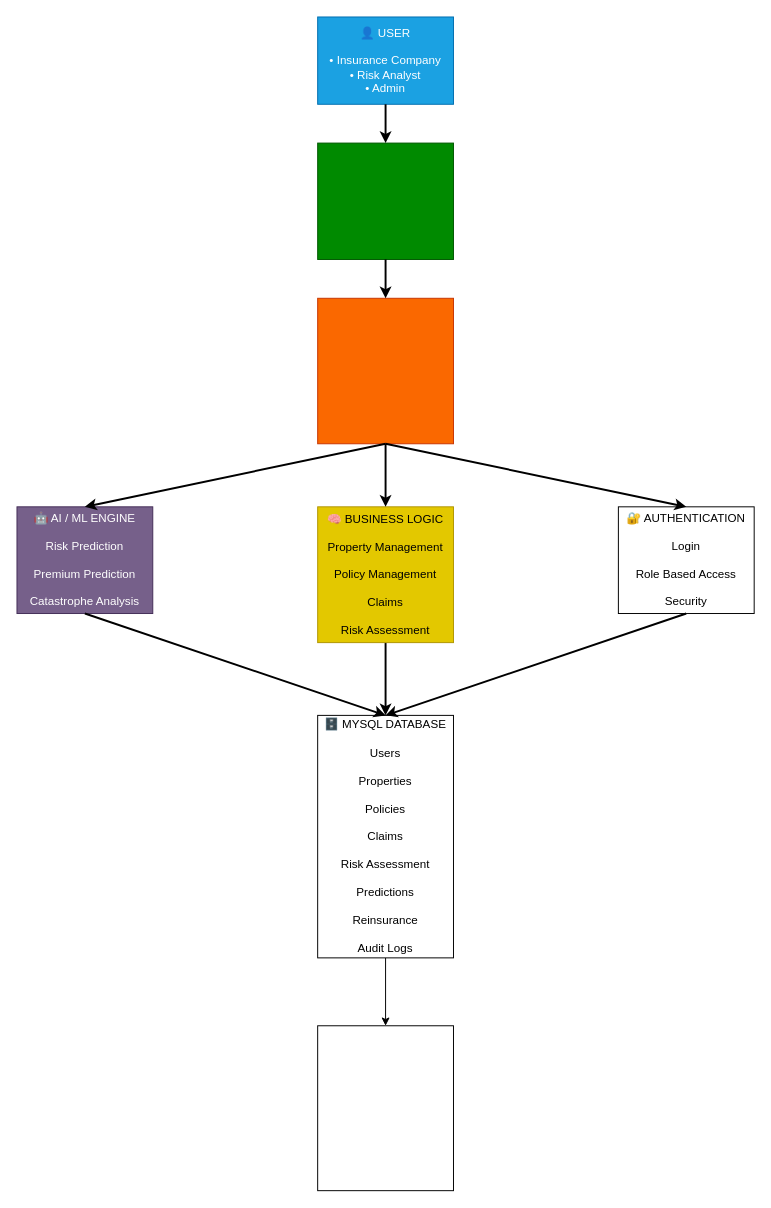
Image size: 771x1208. Some labels were removed from this diagram. Here are the shapes that lost their labels. From the top down, the centre of each, then its label:
At point 385,200: "🌐 WEB FRONTEND Flask Web Interface HTML CSS JavaScript Bootstrap".
At point 385,370: "⚙️ FLASK BACKEND REST API Authentication Business Logic Session Management".
At point 385,1108: "📊 OUTPUT Risk Score Premium Reports Dashboard Analytics".
